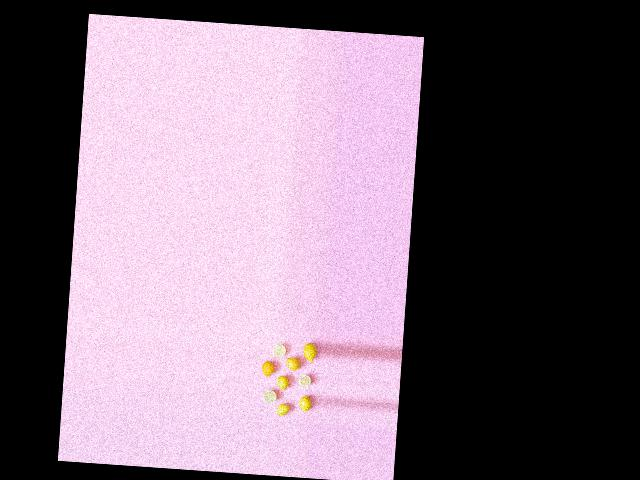lemon: (300, 392, 314, 412)
